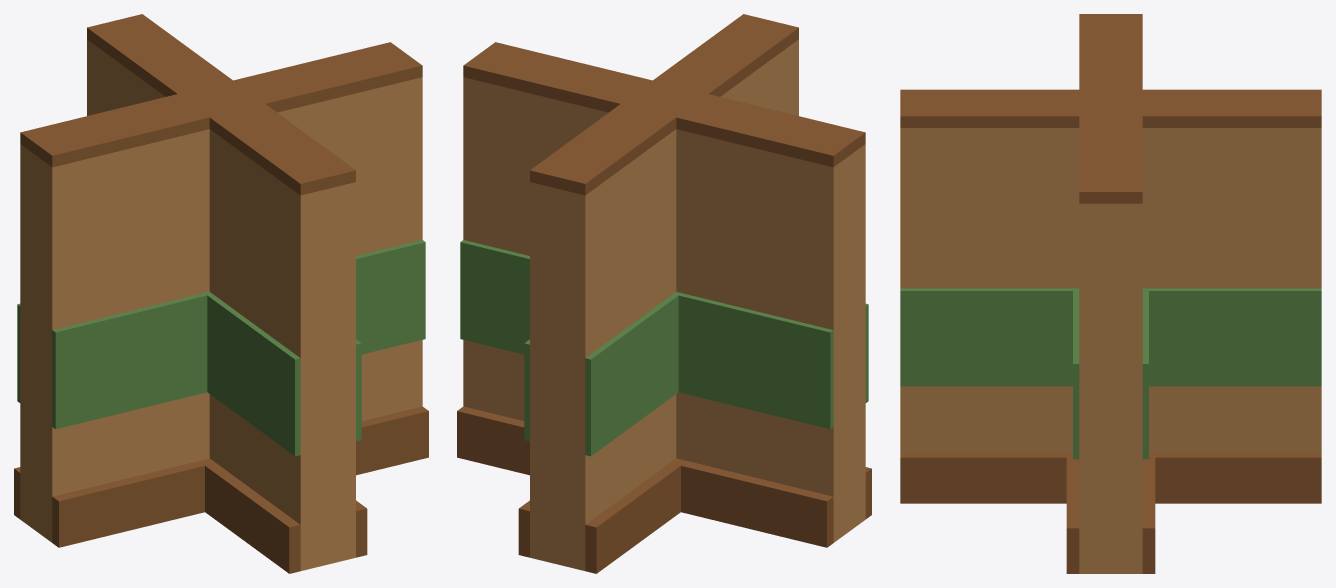
Rendered from partition-full-cross.glb.
3 views of the same model, side by side, from view 1: azimuth 30°, elevation 25°; view 2: azimuth 150°, elevation 25°; view 3: azimuth 270°, elevation 25° (orthographic).
Parts seen in each view (by area): view 1: partition-full-cross; view 2: partition-full-cross; view 3: partition-full-cross.
Part boxes in pixels (x1,y1,x2,y2): partition-full-cross: [14, 14, 428, 573]; partition-full-cross: [457, 14, 871, 573]; partition-full-cross: [900, 14, 1321, 573].
Size of the model in its own units: 1 by 1 by 1.
Materials: 1 (1 with a texture image).
